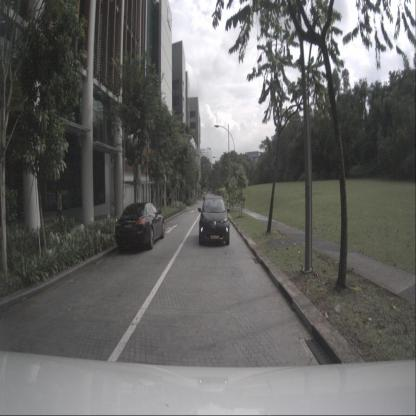human-pedestrian-adult: (56, 189, 62, 227)
vehicle-car: (115, 202, 165, 250), (199, 195, 229, 247)
